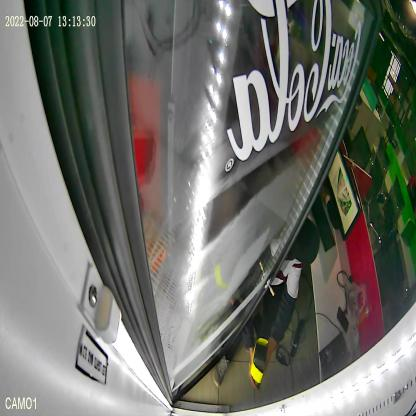yellow: (250, 338, 268, 384)
